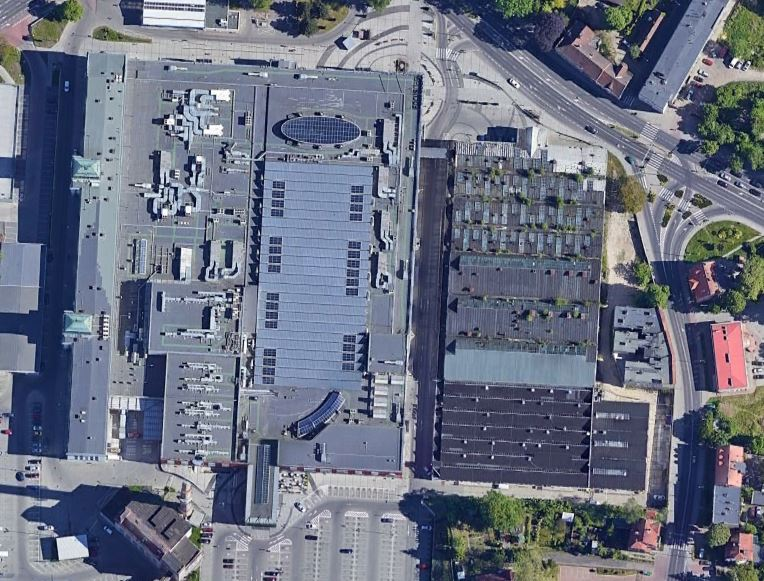block of flats: (95, 483, 211, 581), (705, 442, 747, 536), (707, 319, 753, 400), (683, 255, 731, 308)
shopping_center: (70, 35, 661, 530)
